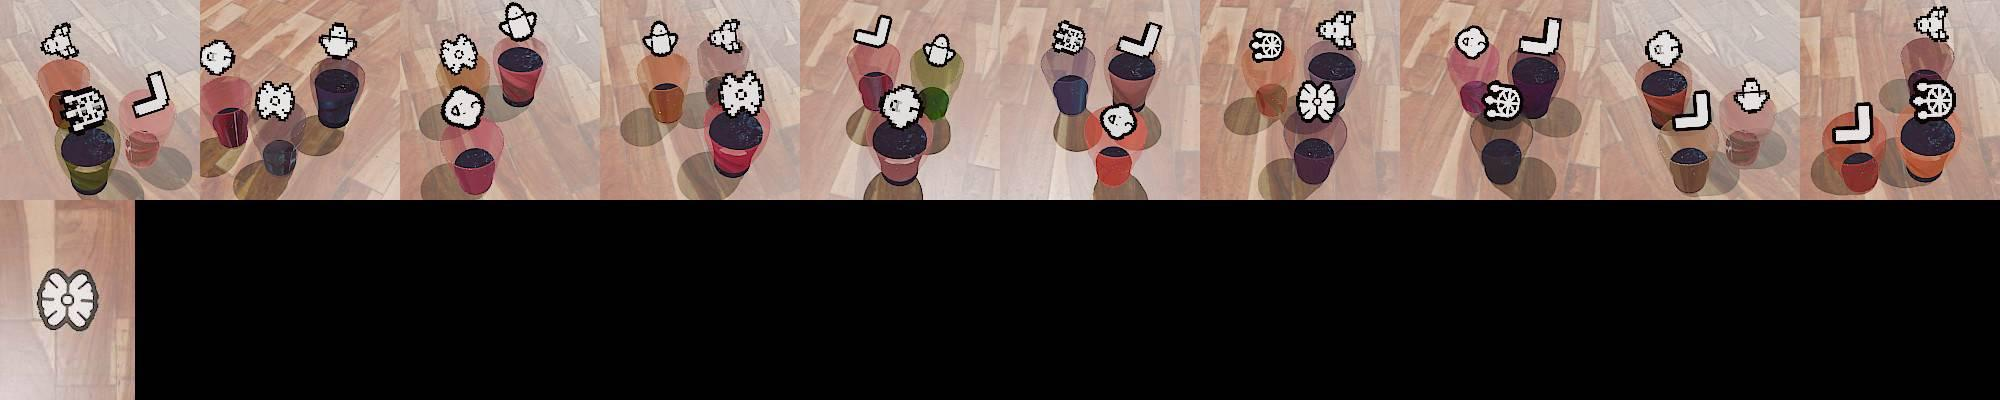icon: (34, 266, 101, 332), (717, 69, 764, 118), (879, 83, 925, 127), (439, 85, 486, 129), (130, 70, 172, 118), (1295, 79, 1339, 124), (60, 88, 108, 129), (1517, 15, 1562, 57), (1830, 99, 1874, 143), (1909, 80, 1957, 120), (254, 79, 296, 122), (1481, 80, 1523, 124), (1671, 87, 1712, 131), (437, 33, 480, 75), (1117, 19, 1162, 59), (1315, 10, 1356, 52), (497, 1, 538, 41), (319, 22, 358, 60), (41, 22, 80, 60), (1644, 29, 1682, 69), (853, 13, 894, 50), (1098, 102, 1138, 139), (1913, 4, 1950, 42), (642, 19, 679, 56), (200, 38, 236, 76), (1051, 18, 1087, 56), (1249, 27, 1284, 62), (708, 18, 742, 55), (1735, 76, 1769, 112), (1454, 25, 1489, 60), (922, 32, 954, 66)
